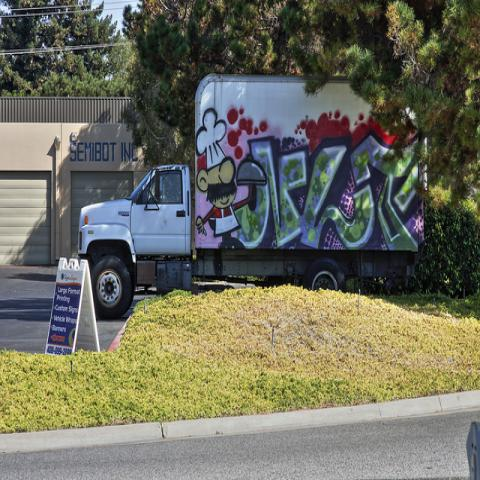truck: (77, 73, 430, 324)
